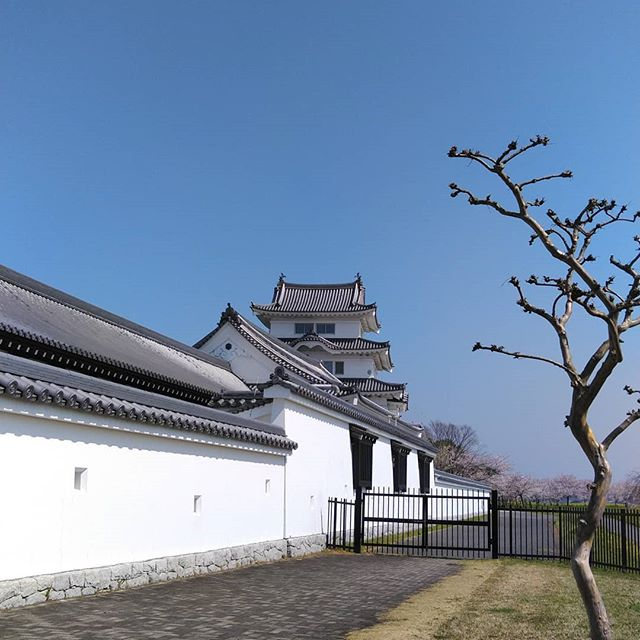building: (1, 262, 463, 640)
gate: (351, 484, 501, 555)
sky: (1, 1, 623, 360)
tree: (457, 102, 640, 624)
